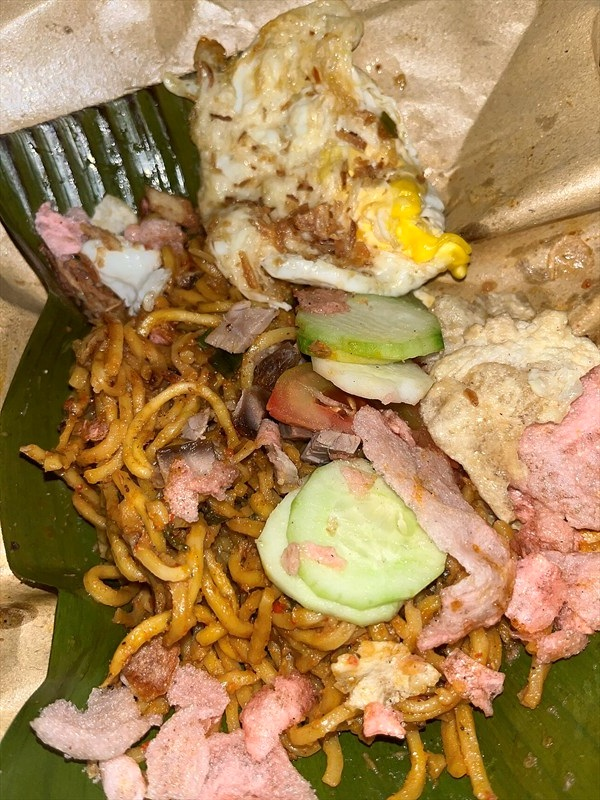Mie Goreng: (54, 125, 486, 755)
